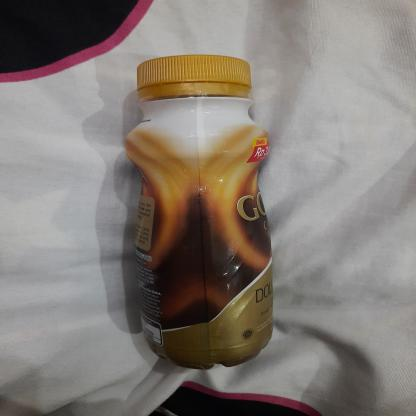plastic: (119, 51, 279, 372)
